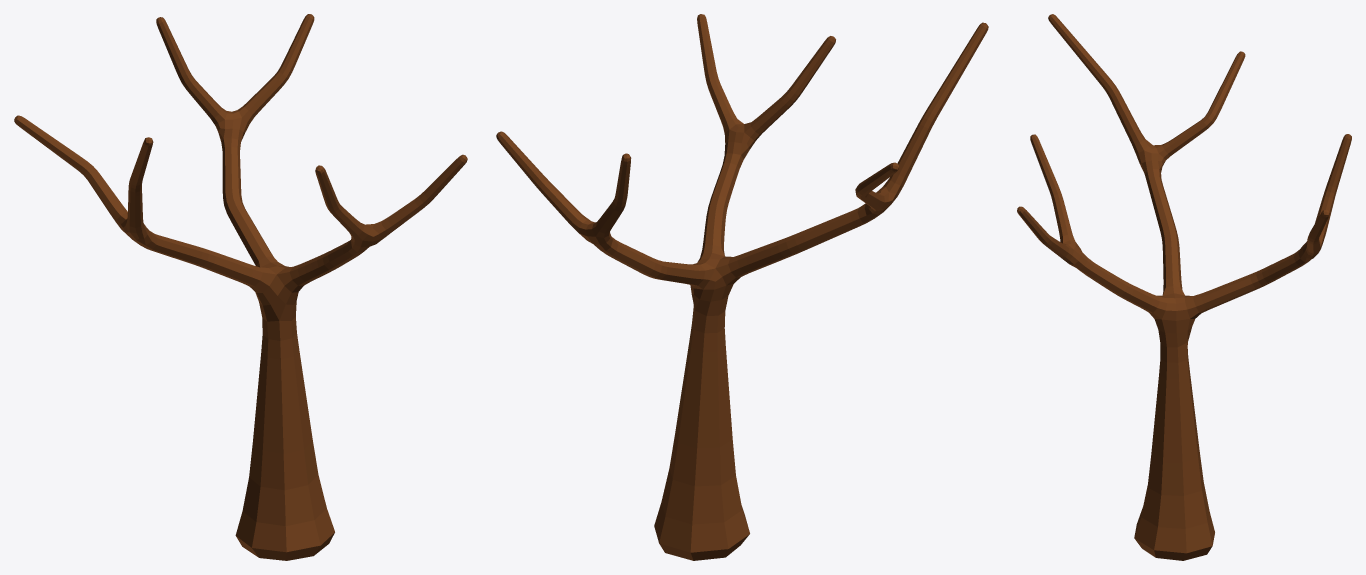
Rendered from Laubbaumstamm.fbx.
3 views of the same model, side by side, from view 1: azimuth 30°, elevation 25°; view 2: azimuth 150°, elevation 25°; view 3: azimuth 270°, elevation 25° (orthographic). The views are drawn at different scales.
Parts seen in each view (by area): view 1: Plane; view 2: Plane; view 3: Plane.
Part boxes in pixels (x1,y1,x2,y2): Plane: (14,14,467,560); Plane: (496,14,988,560); Plane: (1017,14,1351,560).
Bounding box in the file's own units: 547 × 776 × 526.
